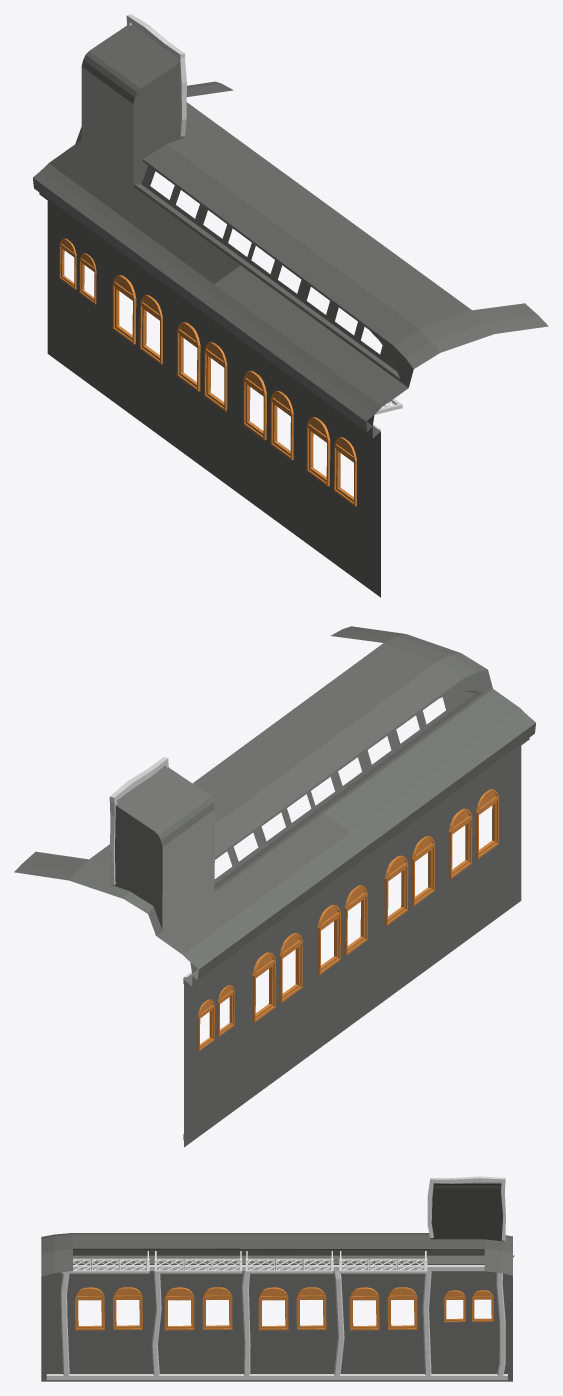
The model's file is trainleftwall.fbx.
The picture shows the model from 3 angles, top to bottom: view 1: azimuth 30°, elevation 25°; view 2: azimuth 150°, elevation 25°; view 3: azimuth 270°, elevation 25°; orthographic projection. The views are drawn at different scales.
Parts seen in each view (by area): view 1: leftwall0, leftwall.001, leftwall.1-1, leftwall.4-1, leftwall.2-1, leftwall.3-1, leftwall.1-2, leftwall.3-2, leftwall.2-2, leftwall.4-2, Cube.018; view 2: leftwall0, leftwall.001, leftwall.1-1, leftwall.4-1, leftwall.3-1, leftwall.2-1, leftwall.1-2, leftwall.3-2, leftwall.2-2, leftwall.4-2, Cube.018; view 3: leftwall0, Cube.013, leftwall.001, leftwall.1-1, Plane.002, leftwall.3-1, leftwall.2-1, leftwall.4-1, leftwall.1-2, leftwall.3-2, leftwall.2-2, leftwall.4-2 (+1 smaller).
Part boxes in pixels (<box>): leftwall0: <box>33,24,548,438</box>; leftwall.001: <box>47,201,107,396</box>; leftwall.1-1: <box>299,385,380,597</box>; leftwall.4-1: <box>107,245,170,442</box>; leftwall.2-1: <box>235,338,299,537</box>; leftwall.3-1: <box>170,291,235,490</box>; leftwall.1-2: <box>302,403,361,521</box>; leftwall.3-2: <box>173,312,232,430</box>; leftwall.2-2: <box>240,356,295,468</box>; leftwall.4-2: <box>112,267,166,374</box>; Cube.018: <box>126,14,186,136</box>; leftwall0: <box>14,626,535,986</box>; leftwall.001: <box>184,948,244,1147</box>; leftwall.1-1: <box>438,746,521,960</box>; leftwall.4-1: <box>244,901,308,1102</box>; leftwall.3-1: <box>308,853,374,1056</box>; leftwall.2-1: <box>374,806,438,1008</box>; leftwall.1-2: <box>441,782,501,890</box>; leftwall.3-2: <box>311,876,370,983</box>; leftwall.2-2: <box>378,825,435,935</box>; leftwall.4-2: <box>249,925,304,1030</box>; Cube.018: <box>109,757,168,885</box>; leftwall0: <box>41,1182,514,1276</box>; Cube.013: <box>46,1265,507,1380</box>; leftwall.001: <box>427,1264,512,1381</box>; leftwall.1-1: <box>41,1264,156,1381</box>; Plane.002: <box>61,1251,427,1273</box>; leftwall.3-1: <box>247,1264,339,1381</box>; leftwall.2-1: <box>156,1264,247,1381</box>; leftwall.4-1: <box>338,1264,428,1381</box>; leftwall.1-2: <box>68,1278,152,1345</box>; leftwall.3-2: <box>251,1278,334,1343</box>; leftwall.2-2: <box>161,1274,240,1341</box>; leftwall.4-2: <box>344,1278,421,1345</box>.
Size of the model in its own units: 309 by 525 by 1105.
